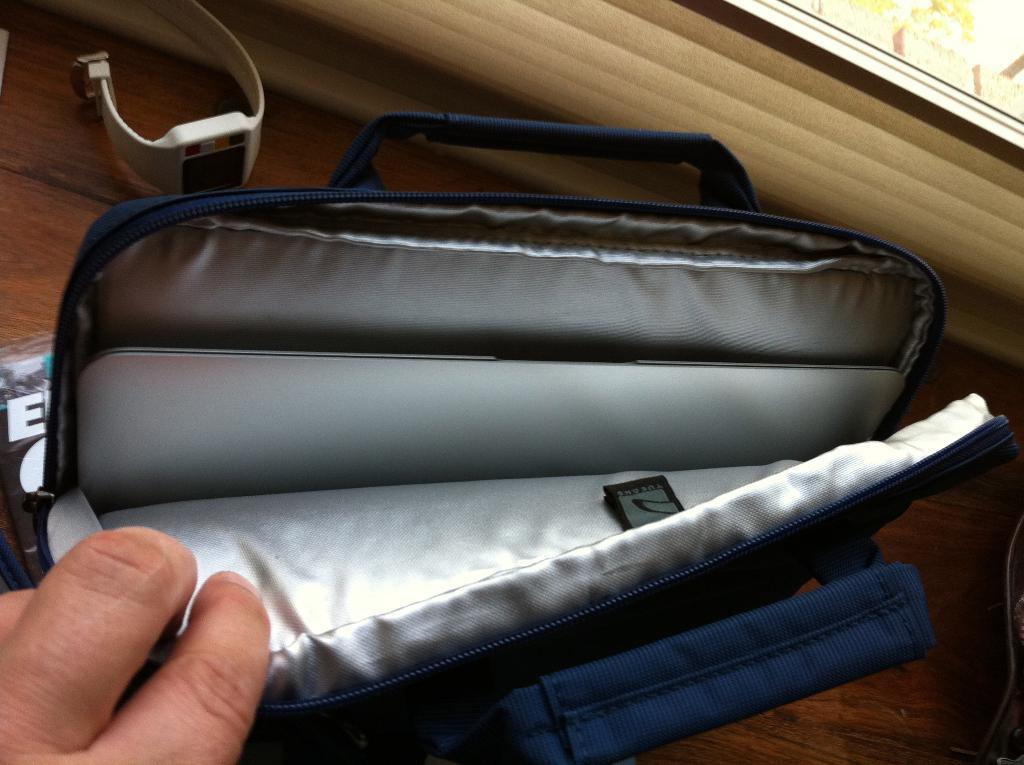Luggage-and-bags: (22, 126, 1011, 763)
